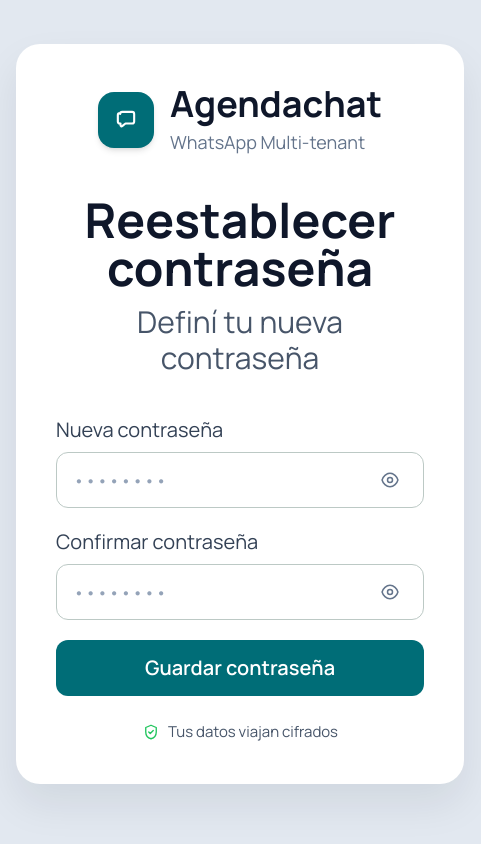
Test: ResetPasswordPage › shows error when passwords do not match
Type "password123" into the password field labelled "Nueva contraseña" at point(240, 480), box x1=56 y1=452 x2=424 y2=508
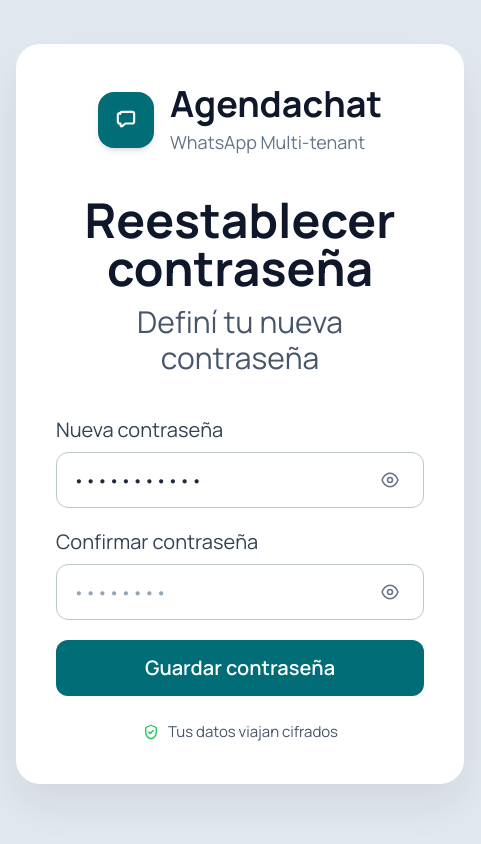
Type "different456" into the password field labelled "Confirmar contraseña" at point(240, 592), box x1=56 y1=564 x2=424 y2=620
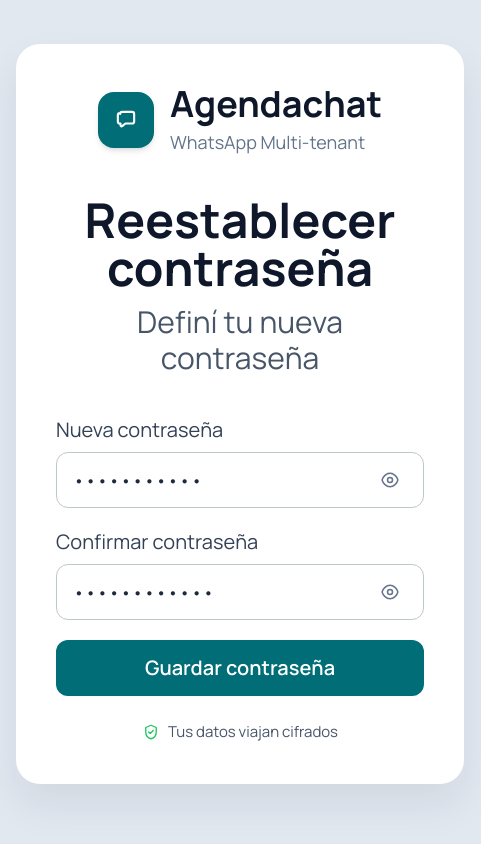
Click the button "Guardar contraseña" at point(240, 668), box x1=56 y1=640 x2=424 y2=696
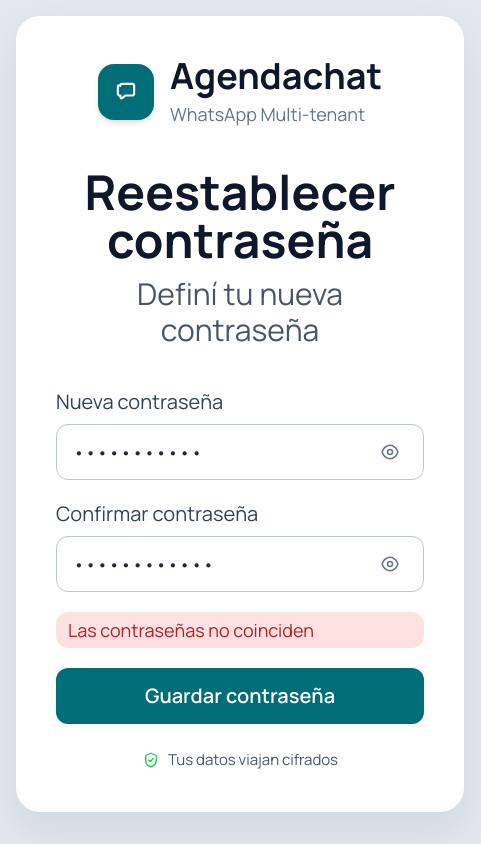
Result: the text "Las contraseñas no coinciden" is shown at x1=56 y1=612 x2=424 y2=648
